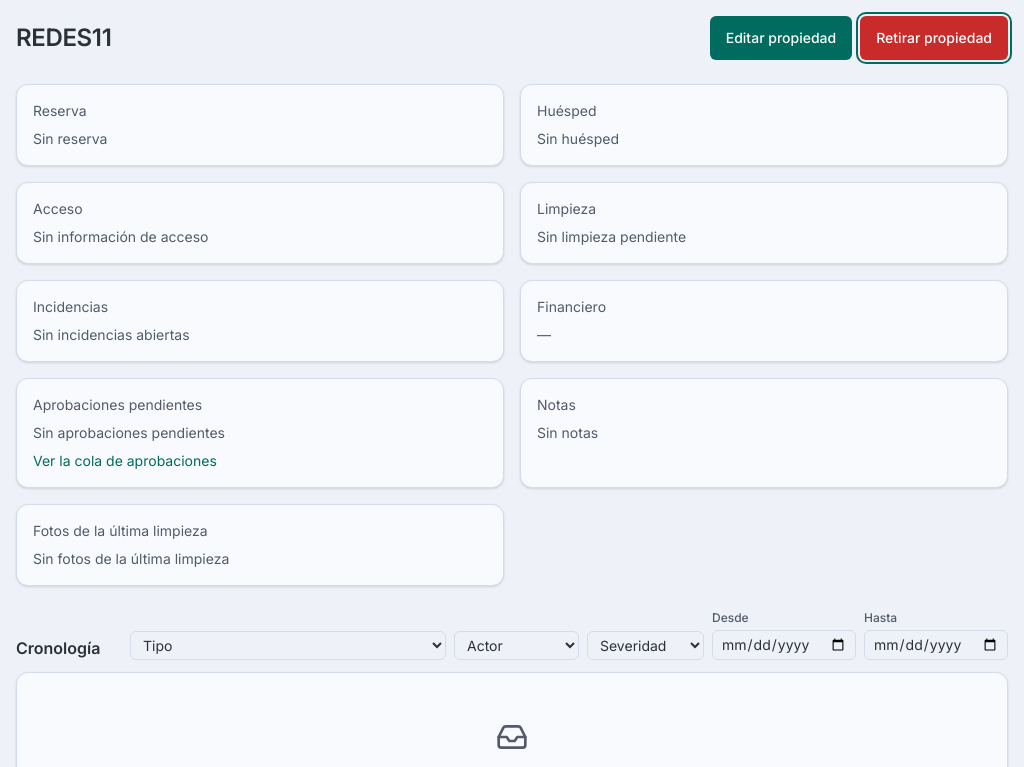
Test case: PropertyDetailView — the overlays' keyboard contract (R4.3, task 6.2) › keeps both retire buttons in the tab sequence and focusable
The width and height of the screenshot is (1024, 767).
Click the button "Retirar propiedad". click: (934, 38)
box: [860,16,1008,60]
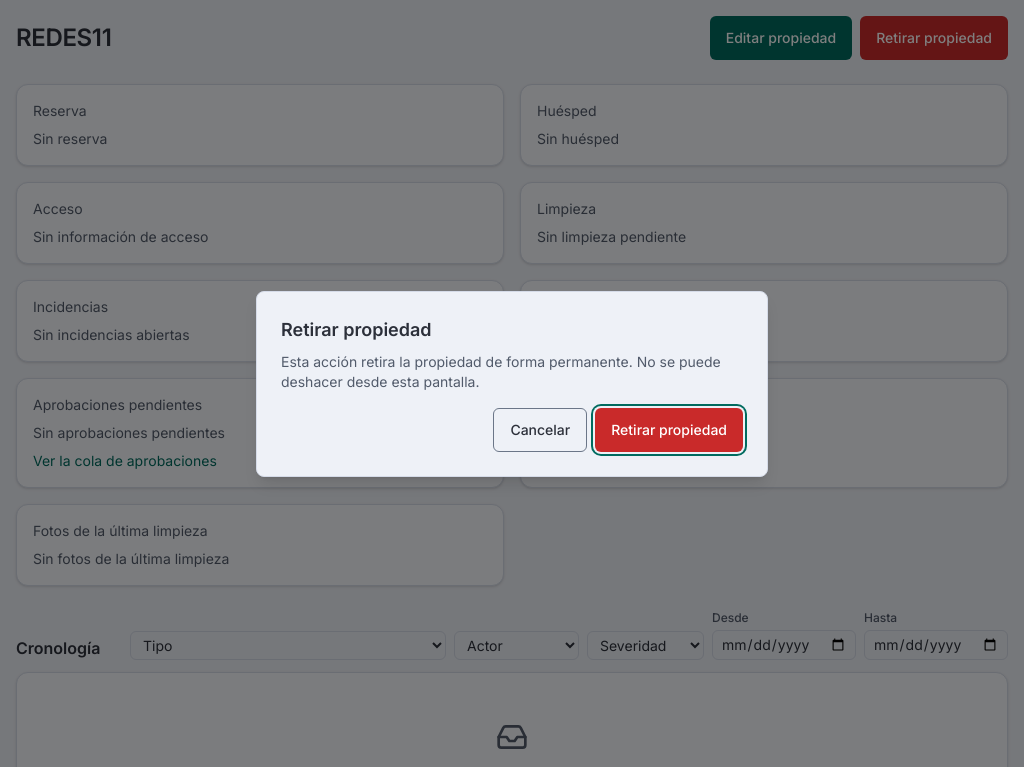
Result: the button "Cancelar" is enabled at [493,408,587,452]
Result: the button "Retirar propiedad" is enabled at [595,408,743,452]
